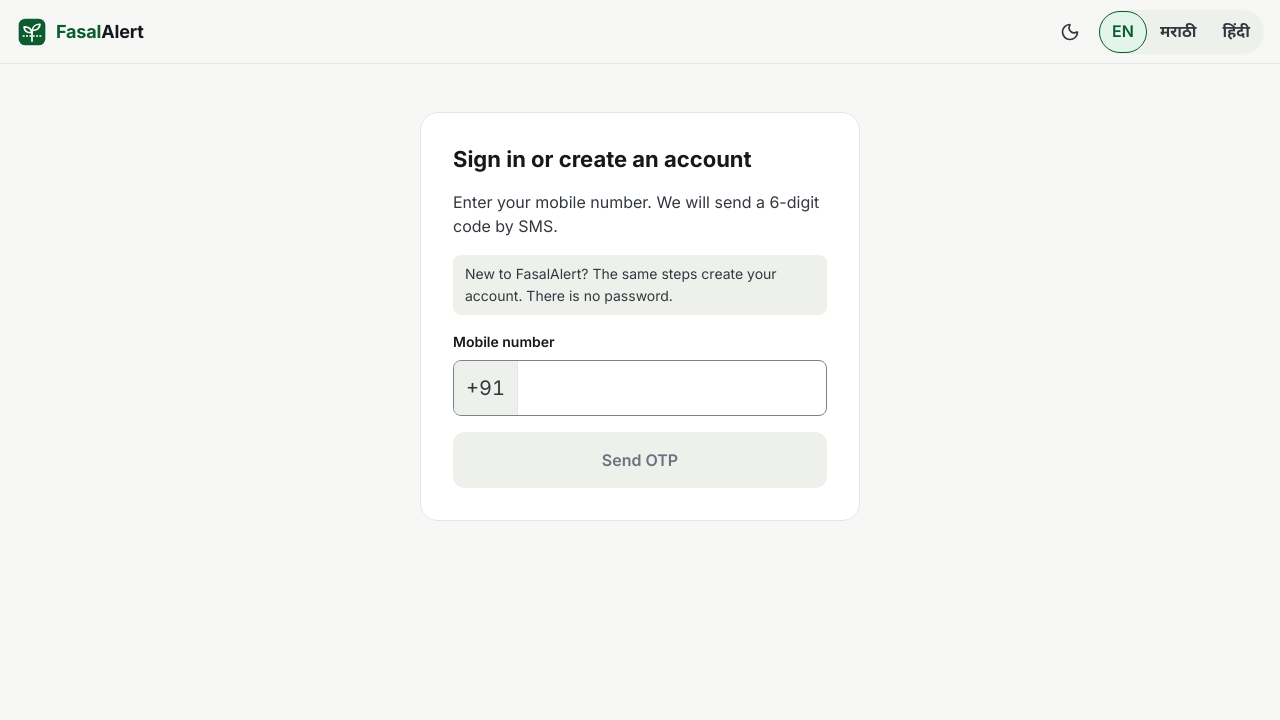
Test: keeps Send disabled and shows an inline error for an invalid number
The image size is (1280, 720).
Step 1. Type "12345" into the field labelled "Mobile number" → (672, 388), box [518,361,826,415]
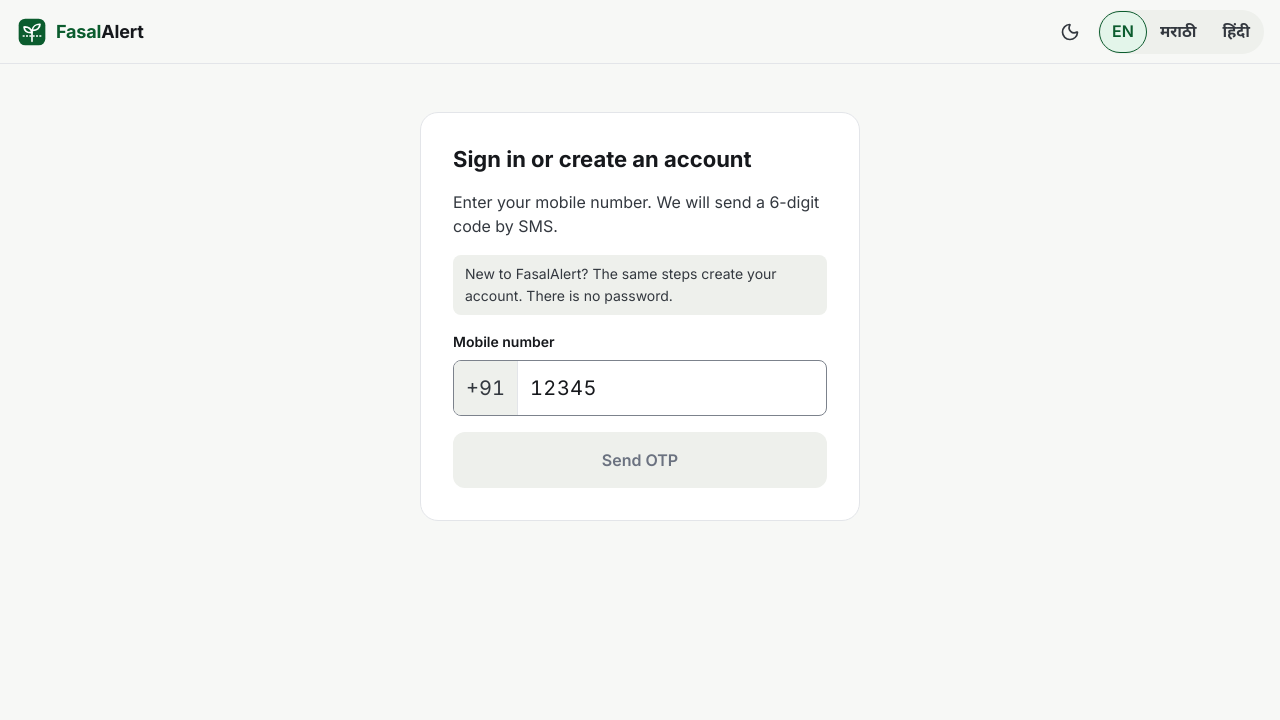
Step 2. Leave the field labelled "Mobile number", box [518,361,826,415]
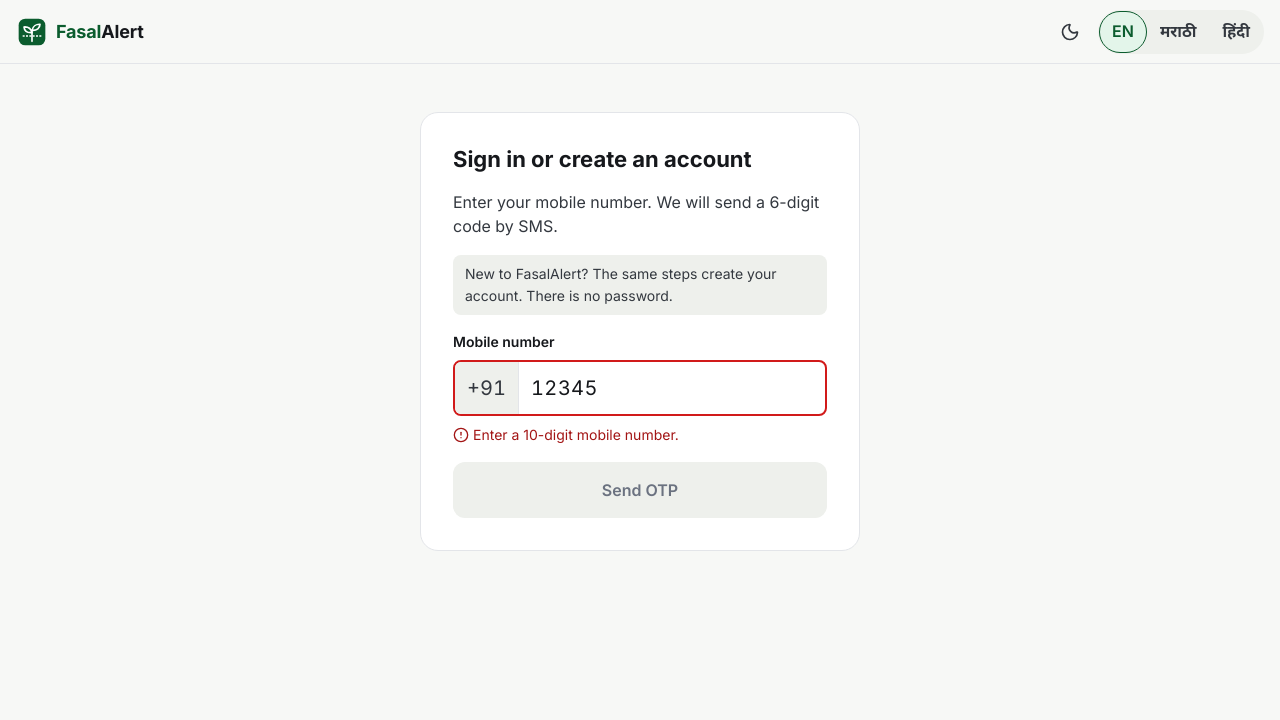
Expected: the button "Send OTP" is disabled, [453,462,827,518]
Result: the text "Enter a 10-digit mobile number." is shown at [473,424,679,446]
